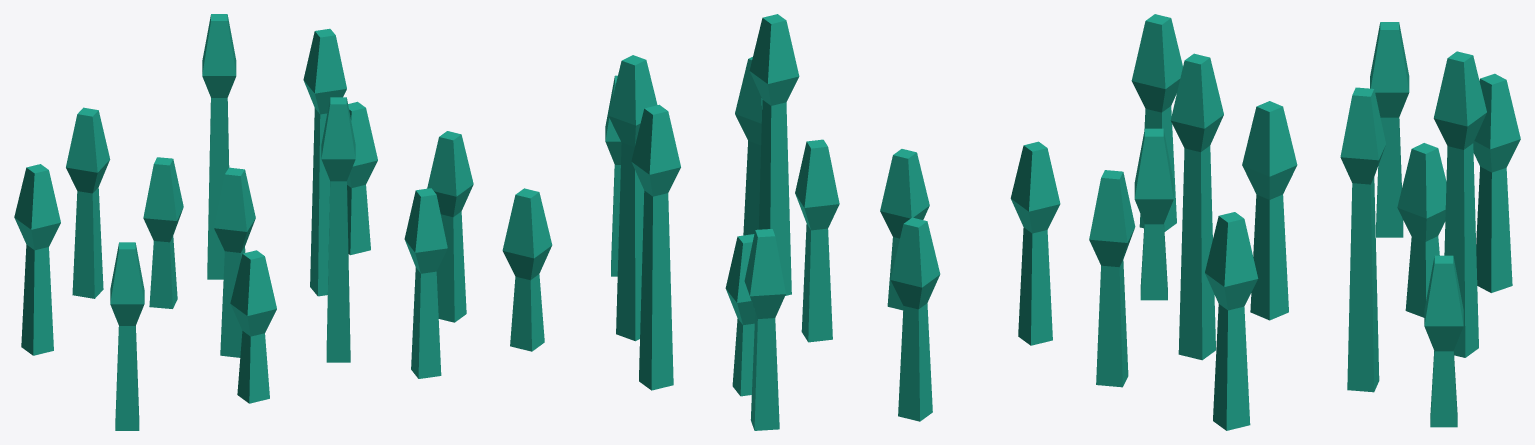
Rendered from crops_wheatStageA.glb.
The picture shows the model from 3 angles, left to right: view 1: azimuth 30°, elevation 25°; view 2: azimuth 150°, elevation 25°; view 3: azimuth 270°, elevation 25°; orthographic projection. The views are drawn at different scales.
Visible parts, largest first — view 1: crops_wheatStageA; view 2: crops_wheatStageA; view 3: crops_wheatStageA.
Part boxes in pixels (box(x1,y1,x2,y2)): crops_wheatStageA: box(14, 14, 473, 430); crops_wheatStageA: box(502, 14, 1060, 430); crops_wheatStageA: box(1089, 14, 1520, 430).
Bounding box in the file's own units: 0.6268 × 0.3891 × 0.5189.
